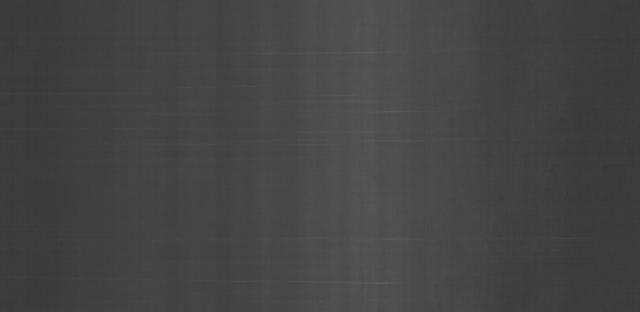waist_folding: (231, 34, 443, 237)
